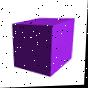cube: (11, 18, 75, 78)
